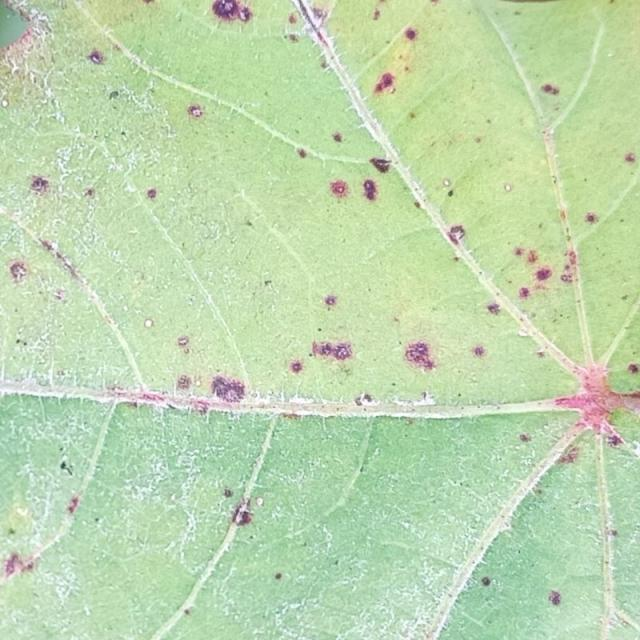Bacterial_Blight: (311, 0, 639, 390), (373, 22, 422, 94), (5, 250, 69, 298), (284, 2, 332, 48), (11, 312, 58, 353), (576, 366, 614, 404), (403, 340, 438, 371), (210, 375, 247, 403), (311, 339, 354, 362), (3, 550, 37, 579), (210, 0, 251, 24), (4, 503, 32, 536), (325, 177, 358, 201), (559, 256, 580, 285), (231, 501, 254, 525), (374, 73, 395, 95), (9, 261, 29, 284), (558, 445, 580, 464), (29, 175, 50, 194), (362, 179, 379, 201), (369, 157, 392, 173), (447, 225, 466, 244), (87, 49, 105, 65), (176, 374, 193, 389), (311, 5, 328, 20), (66, 495, 79, 514), (187, 104, 204, 118), (535, 267, 552, 281), (541, 83, 559, 95), (548, 591, 562, 606), (606, 434, 622, 447), (60, 461, 73, 476), (193, 401, 209, 413), (584, 212, 599, 224), (486, 302, 501, 314), (404, 28, 417, 40), (290, 361, 303, 373), (324, 295, 337, 307), (527, 250, 539, 263), (518, 287, 530, 299), (360, 393, 373, 404), (624, 152, 636, 163), (473, 346, 485, 357), (177, 336, 189, 347), (221, 1, 233, 12), (605, 528, 619, 537), (146, 188, 157, 199), (627, 363, 639, 373), (415, 344, 427, 354), (84, 188, 95, 198), (296, 148, 307, 158), (519, 433, 531, 442), (287, 34, 299, 43), (332, 132, 342, 142), (223, 488, 233, 498), (109, 90, 119, 100), (288, 13, 297, 24), (514, 247, 524, 256), (481, 577, 491, 586), (373, 9, 381, 20), (504, 183, 513, 192), (144, 319, 153, 328), (536, 349, 546, 357), (274, 572, 282, 580), (1, 99, 8, 108), (474, 136, 482, 143), (447, 189, 454, 197), (9, 527, 16, 535), (183, 608, 190, 615), (443, 180, 450, 186)
Cotton: (0, 0, 574, 410), (0, 394, 577, 639), (439, 434, 607, 639), (602, 444, 639, 624)
